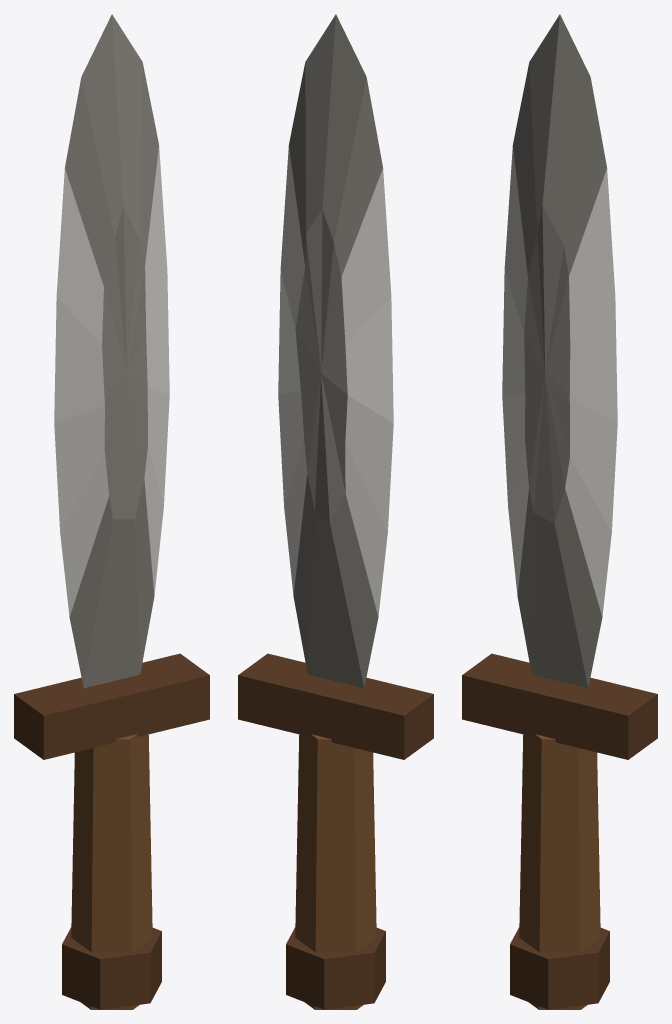
The model's file is wpn_sword_stone_01.fbx.
3 views of the same model, side by side, from view 1: azimuth 30°, elevation 25°; view 2: azimuth 150°, elevation 25°; view 3: azimuth 330°, elevation 25° (orthographic).
Visible parts, largest first — view 1: wpn_sword_stone_01; view 2: wpn_sword_stone_01; view 3: wpn_sword_stone_01.
Boxes of the visible parts, x1,y1,x2,y2 form: wpn_sword_stone_01: (14,14,209,1009); wpn_sword_stone_01: (238,14,433,1009); wpn_sword_stone_01: (462,14,657,1009).
Bounding box in the file's own units: 0.11 × 0.0573 × 0.62.
Materials: 1 (1 with a texture image).
